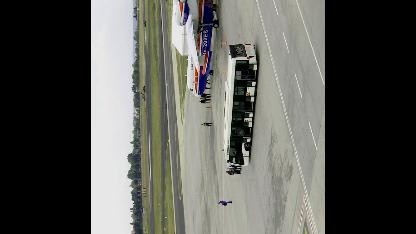B52: (155, 0, 219, 96)
